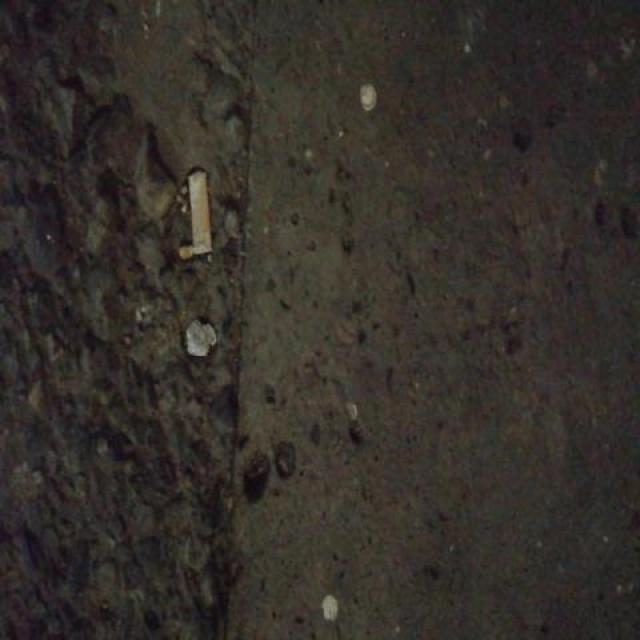non-organic waste: (183, 166, 218, 262)
